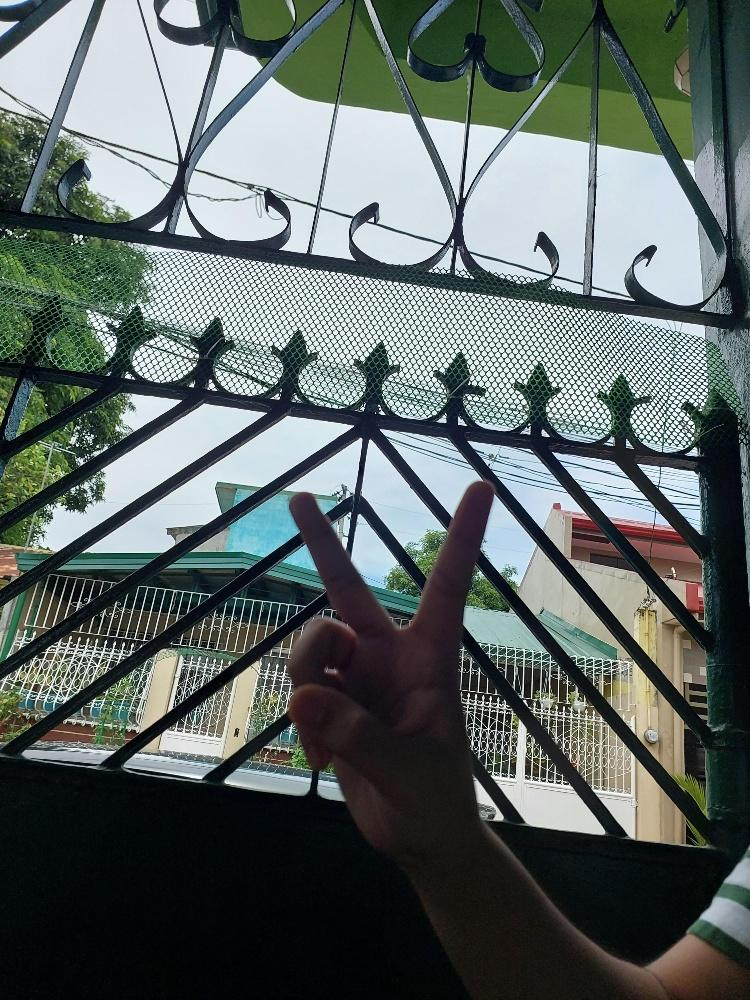v: (283, 474, 498, 853)
